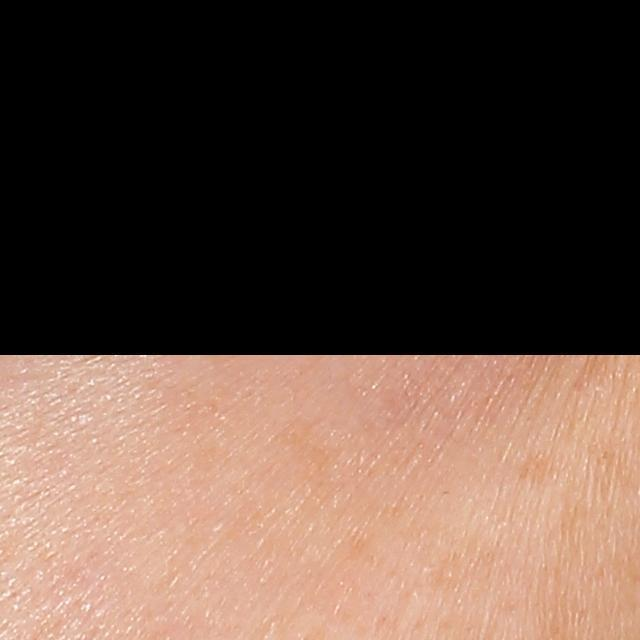melasma: (510, 446, 570, 497)
